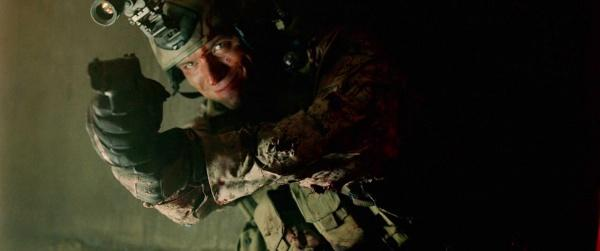Gun: (87, 54, 144, 103)
